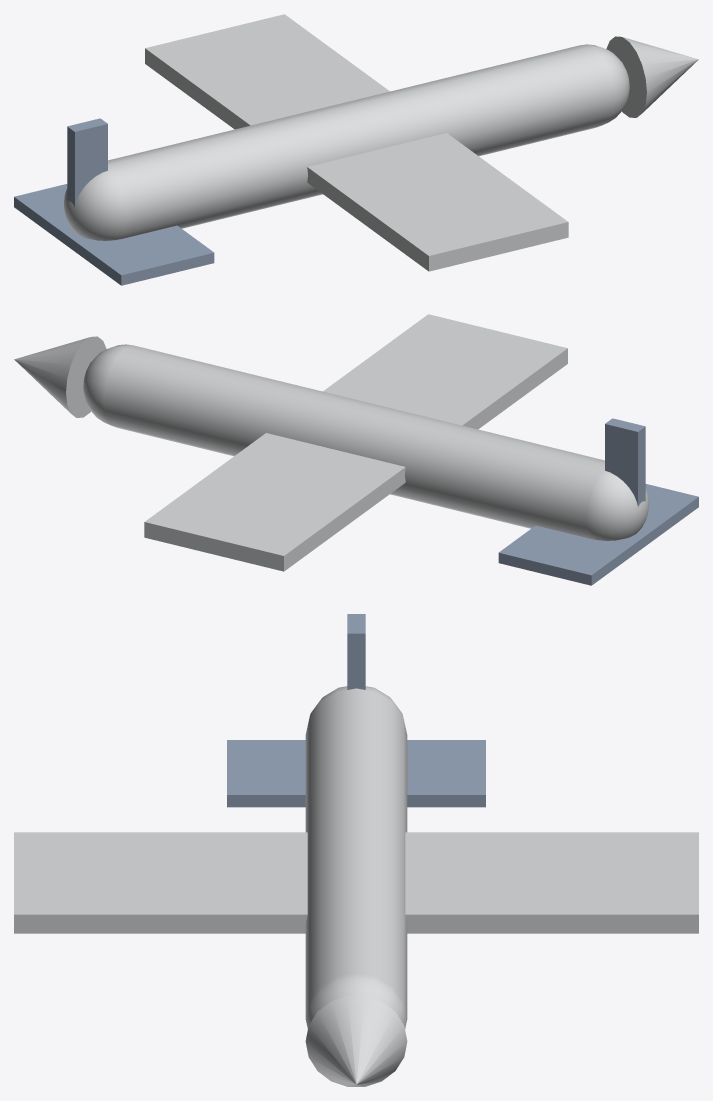
The model's file is trainer-aircraft.glb.
3 views of the same model, one above another, from view 1: azimuth 30°, elevation 25°; view 2: azimuth 150°, elevation 25°; view 3: azimuth 270°, elevation 25° (orthographic). The views are drawn at different scales.
Bounding box in the file's own units: 1.9 × 0.35 × 1.48.
